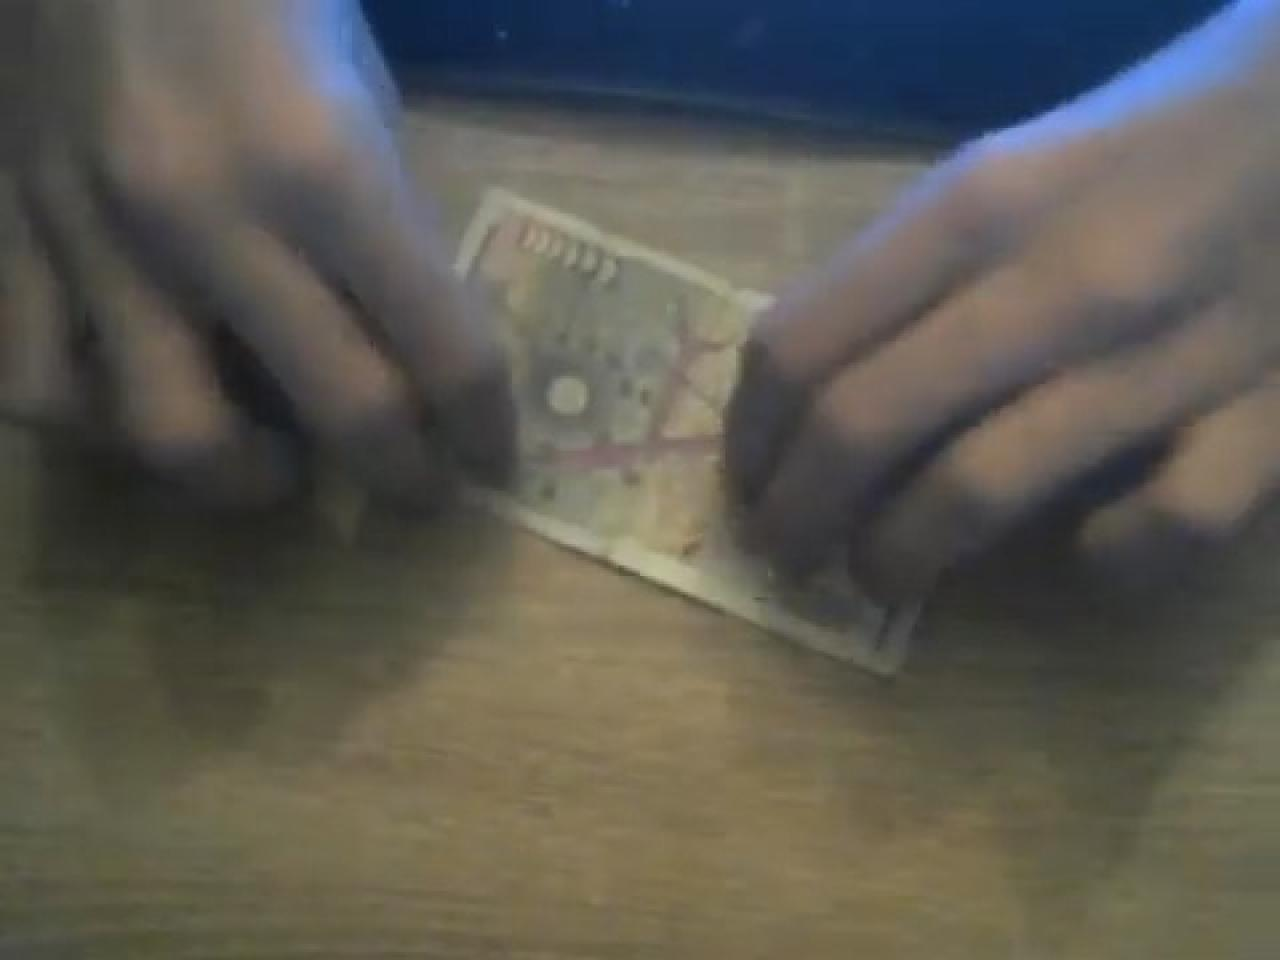10leva: (462, 187, 901, 680)
